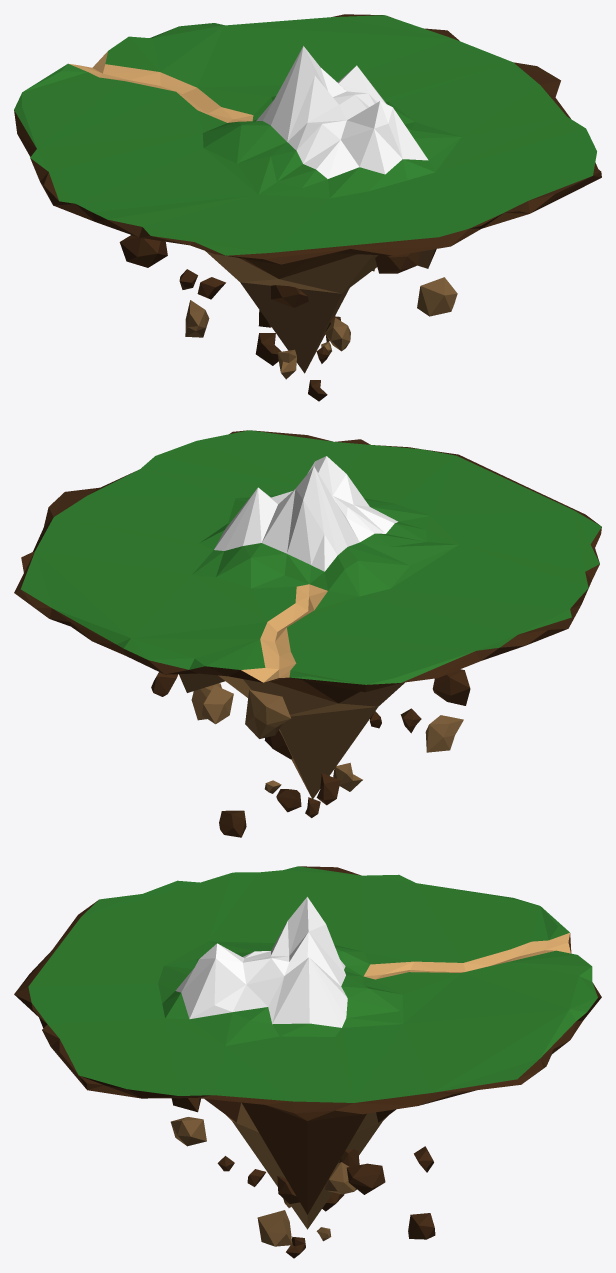
Rendered from World.fbx.
3 views of the same model, one above another, from view 1: azimuth 30°, elevation 25°; view 2: azimuth 150°, elevation 25°; view 3: azimuth 270°, elevation 25° (orthographic).
Parts seen in each view (by area): view 1: Plane; view 2: Plane; view 3: Plane.
Boxes of the visible parts, x1,y1,x2,y2 form: Plane: (14,14,601,401); Plane: (14,430,601,837); Plane: (14,866,601,1258).
Size of the model in its own units: 1554 by 1044 by 1555.
